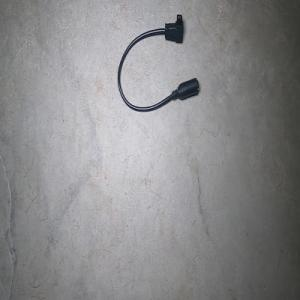Wire: (117, 14, 199, 112)
